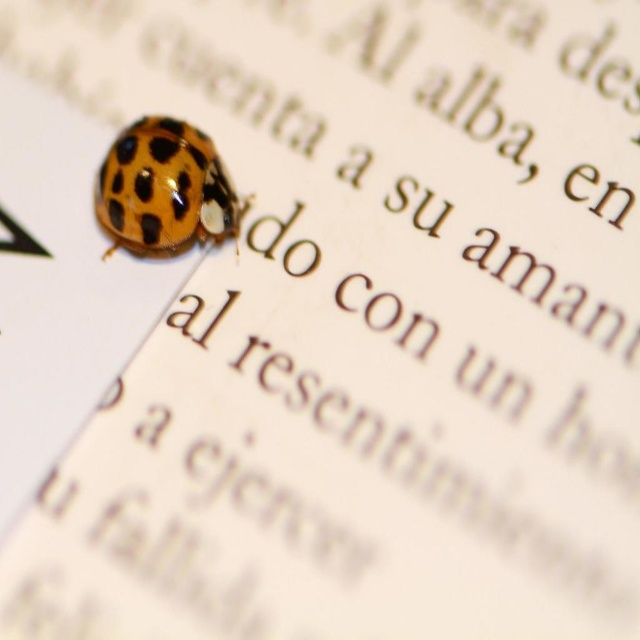Ladybug: (87, 113, 252, 270)
